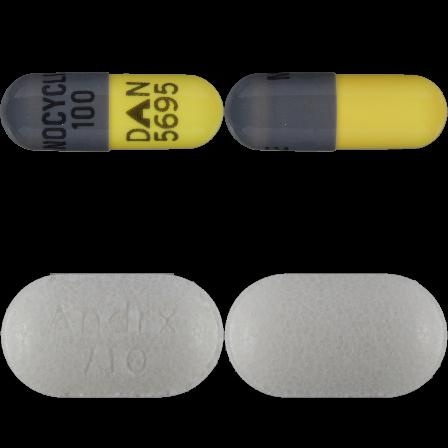68084-623: (0, 0, 224, 224)
